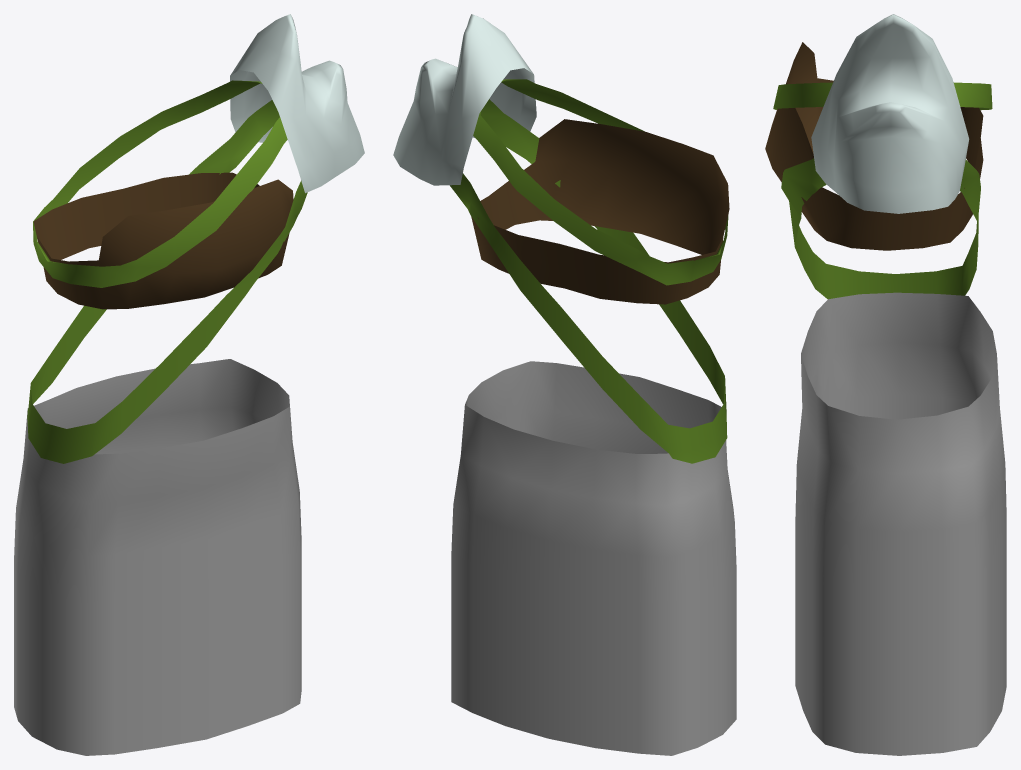
File: BarbF.fbx
3 renders of one model, left to right at view 1: azimuth 30°, elevation 25°; view 2: azimuth 150°, elevation 25°; view 3: azimuth 270°, elevation 25°, orthographic. The views are drawn at different scales.
Parts seen in each view (by area): view 1: Skirt, Bra, StrapLow, Shoulder, StrapHigh; view 2: Skirt, Bra, StrapLow, Shoulder, StrapHigh; view 3: Skirt, Shoulder, Bra, StrapLow, StrapHigh.
Boxes of the visible parts, x1,y1,x2,y2 form: Skirt: [14, 359, 301, 755]; Bra: [33, 172, 293, 309]; StrapLow: [27, 100, 307, 463]; Shoulder: [230, 14, 364, 193]; StrapHigh: [33, 80, 287, 287]; Skirt: [451, 361, 736, 755]; Bra: [471, 119, 729, 304]; StrapLow: [450, 99, 727, 463]; Shoulder: [393, 14, 536, 185]; StrapHigh: [473, 79, 728, 285]; Skirt: [795, 292, 1006, 755]; Shoulder: [811, 14, 969, 213]; Bra: [765, 42, 983, 250]; StrapLow: [781, 158, 980, 299]; StrapHigh: [773, 82, 992, 110].
Size of the model in its own units: 6.09 by 11.87 by 3.51.
